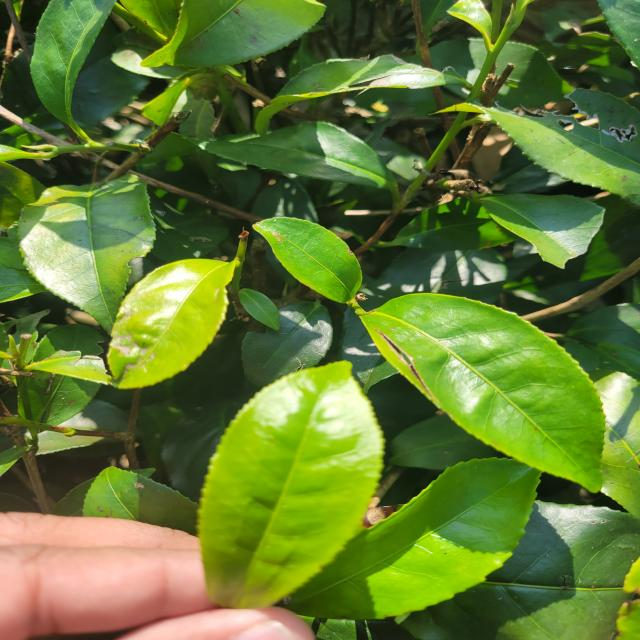Catagory A(1-2 days): (159, 353, 389, 623)
